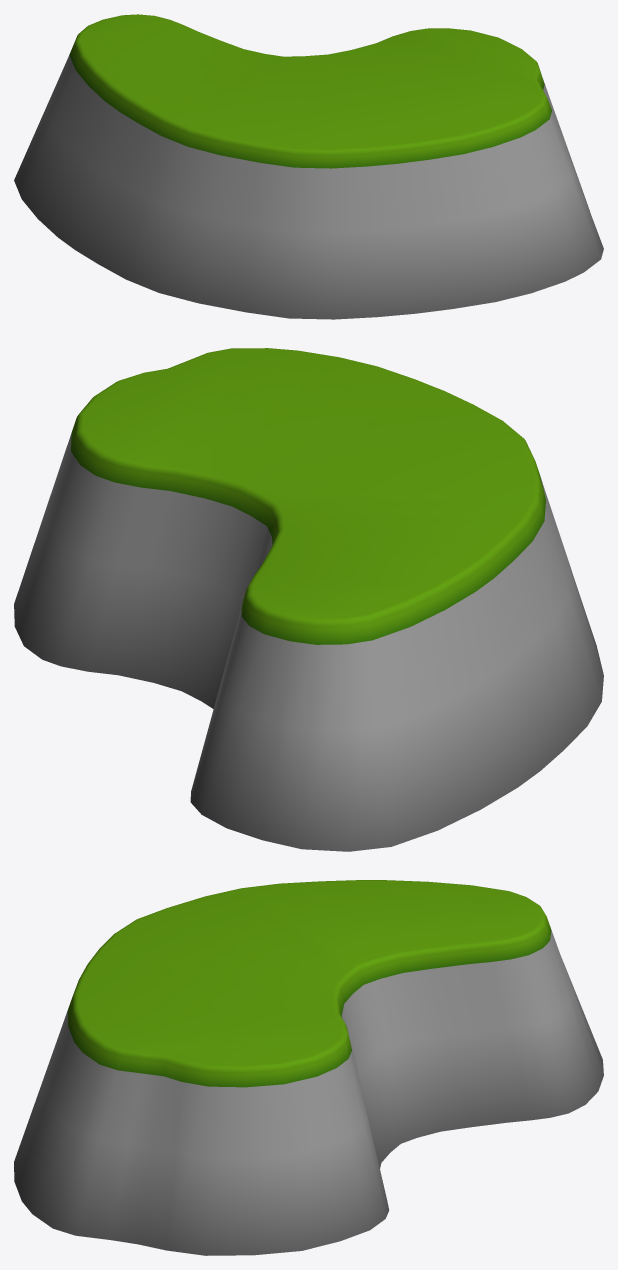
The model's file is Mountain07.fbx.
The picture shows the model from 3 angles, top to bottom: view 1: azimuth 30°, elevation 25°; view 2: azimuth 150°, elevation 25°; view 3: azimuth 270°, elevation 25°; orthographic projection. The views are drawn at different scales.
Visible parts, largest first — view 1: LOD0; view 2: LOD0; view 3: LOD0.
Boxes of the visible parts, x1=… form: LOD0: x1=14, y1=14, x2=603, y2=319; LOD0: x1=14, y1=348, x2=603, y2=851; LOD0: x1=14, y1=880, x2=603, y2=1255.
Size of what is drawn, in the model's own units: 1159 by 1220 by 375.
